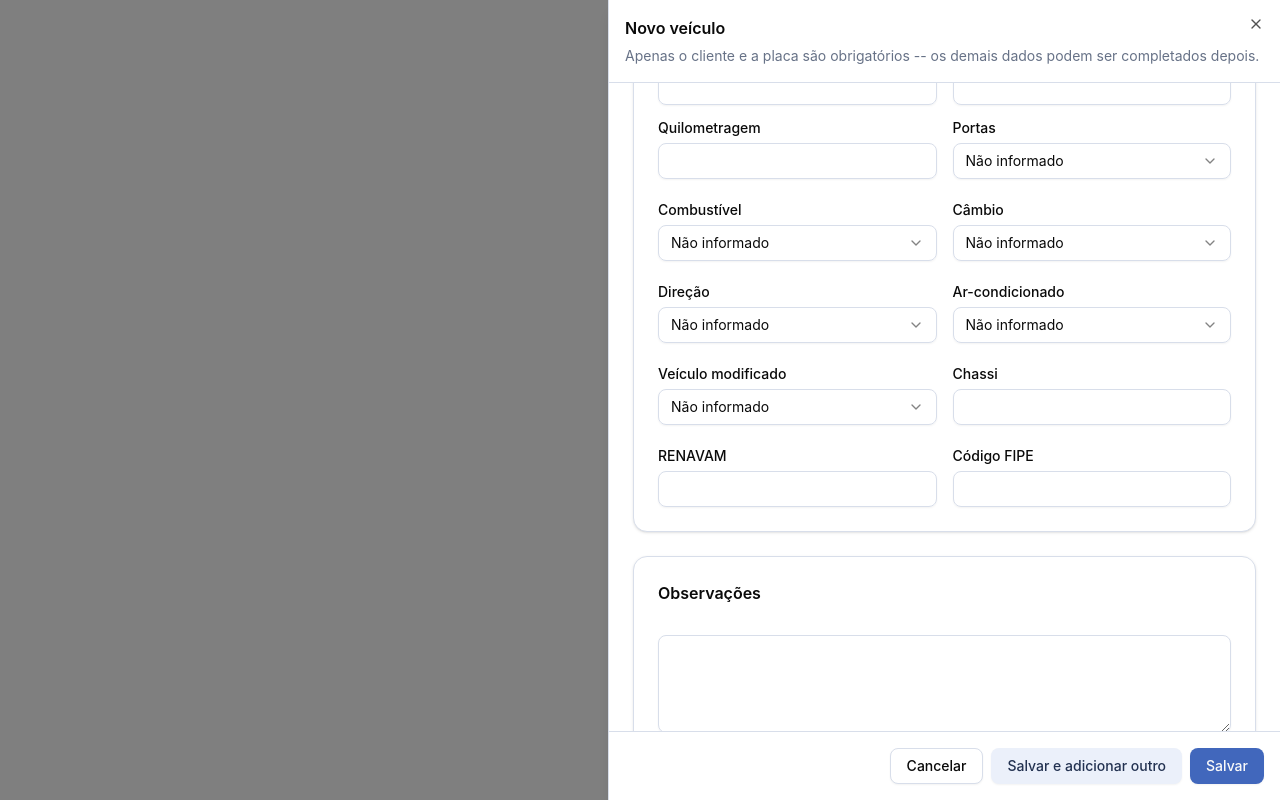
Test: VehicleFormSheet › reveals the modification notes field only when the vehicle is marked as modified
The width and height of the screenshot is (1280, 800).
(page scrolled)
Expected: the field labelled "Observações da modificação" is not shown
Click the dropdown named "Veículo modificado" at (720, 406), box [658, 389, 936, 425]
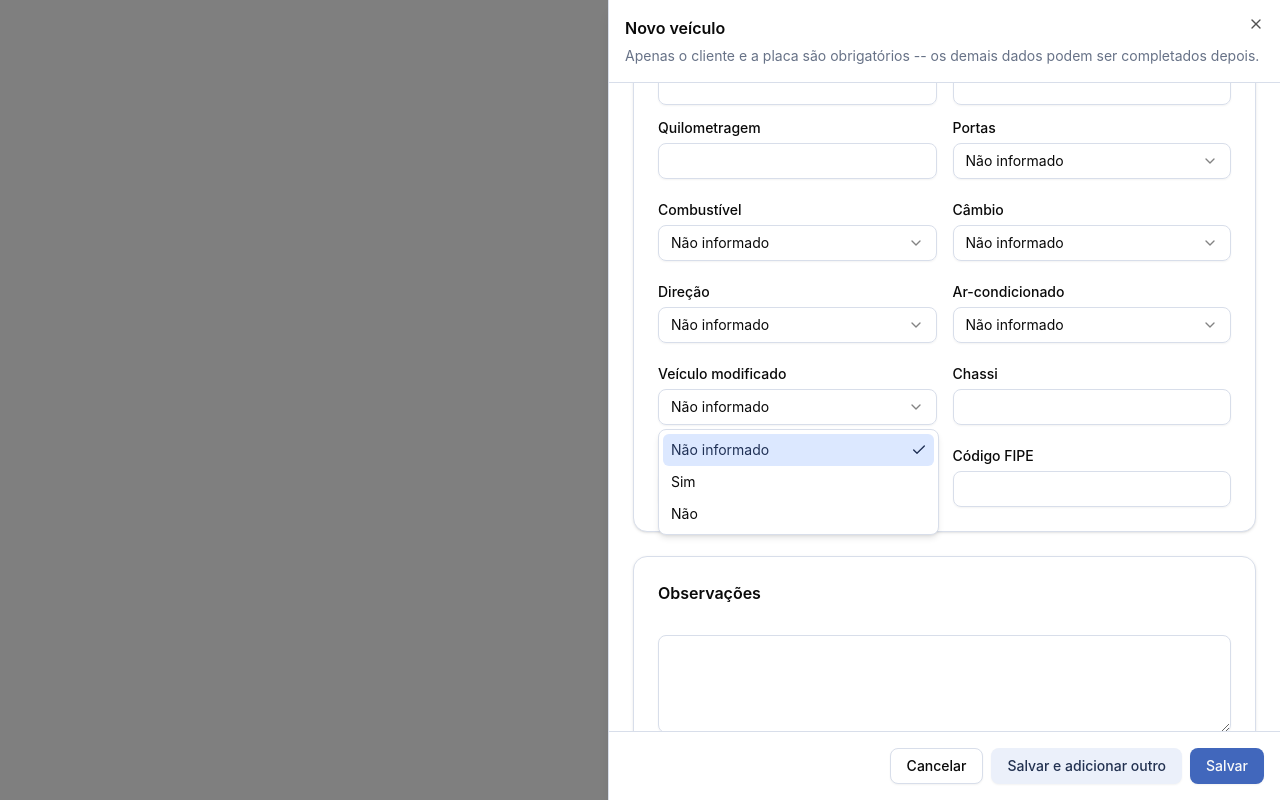
Click the option "Sim" at (683, 482), box [671, 473, 696, 490]
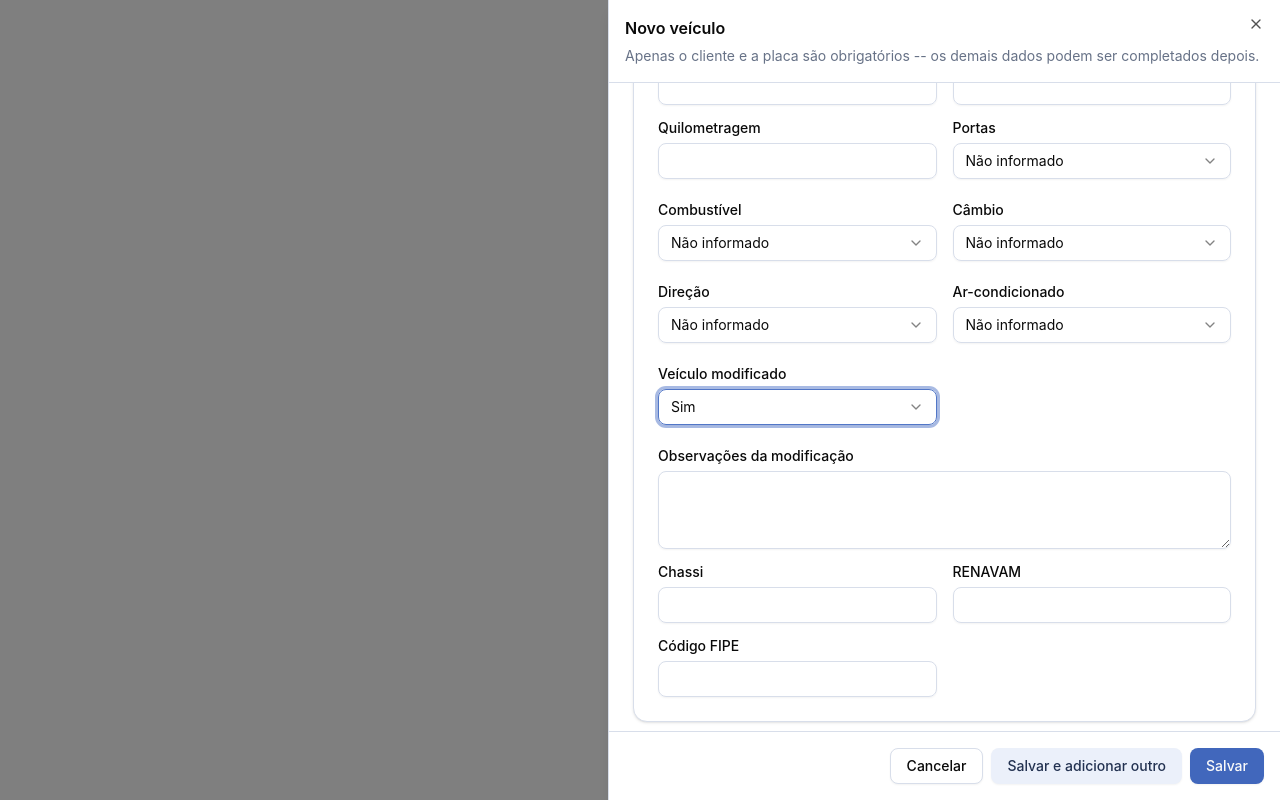
Now the text box labelled "Observações da modificação" is shown, box [658, 471, 1231, 549]
